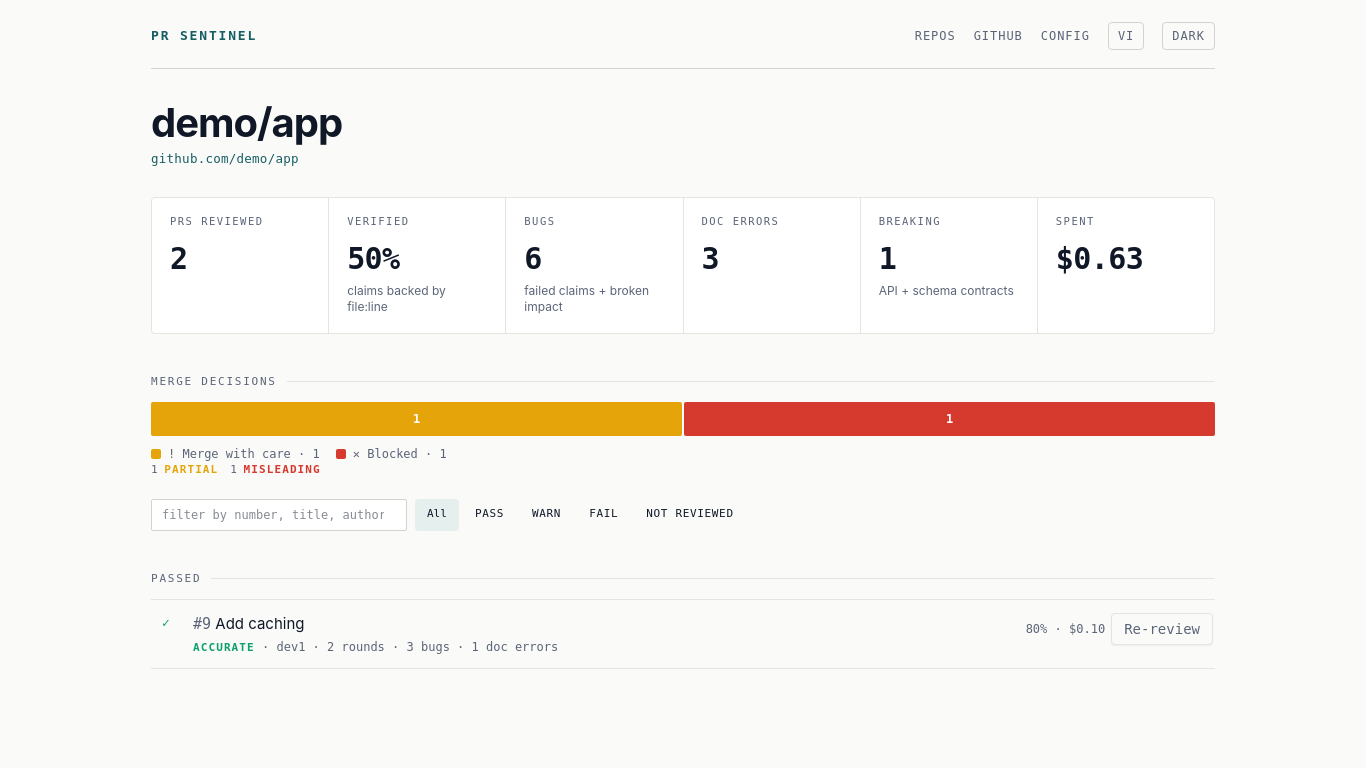
Test: App › renders the repo detail page in Vietnamese, with a round count landing inside its sentence
Click the button "VI" at (1126, 36), box top-left (1108, 22), bottom-right (1144, 50)
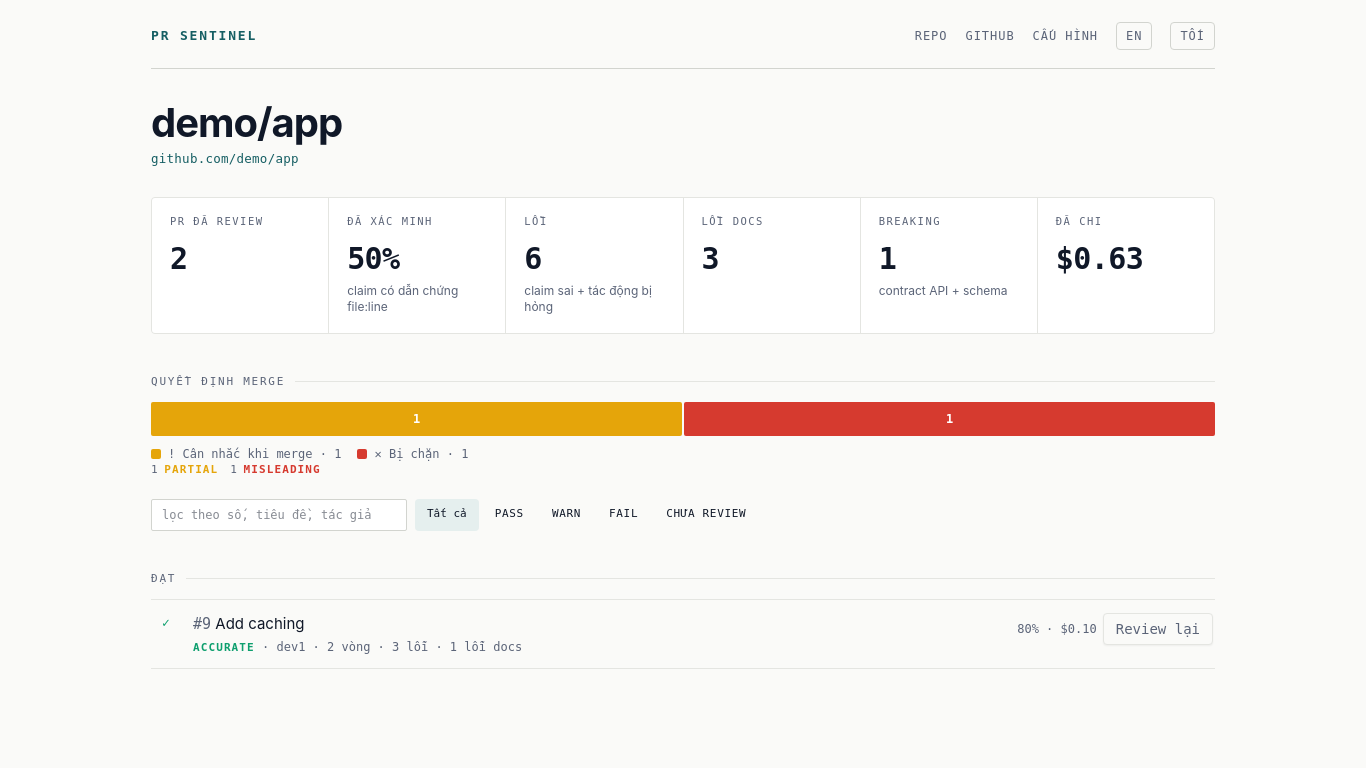
Now the text "Quyết định merge" is shown, box top-left (151, 375), bottom-right (285, 388)
Now the text "2 vòng" is shown, box top-left (305, 640), bottom-right (370, 654)
Now the text "3 lỗi" is shown, box top-left (370, 640), bottom-right (522, 654)
Click the button "EN" at (1134, 36), box top-left (1116, 22), bottom-right (1152, 50)
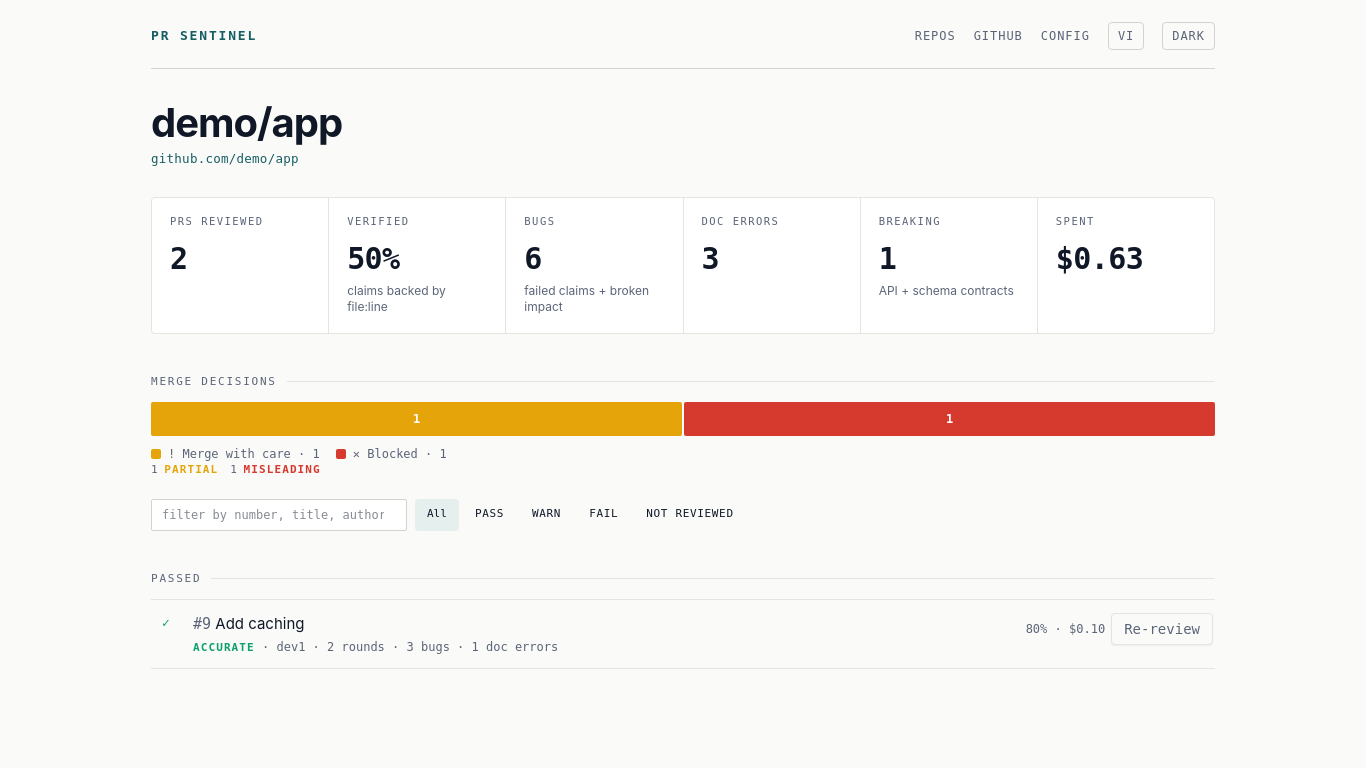
Now the text "Merge decisions" is shown, box top-left (151, 375), bottom-right (277, 388)
